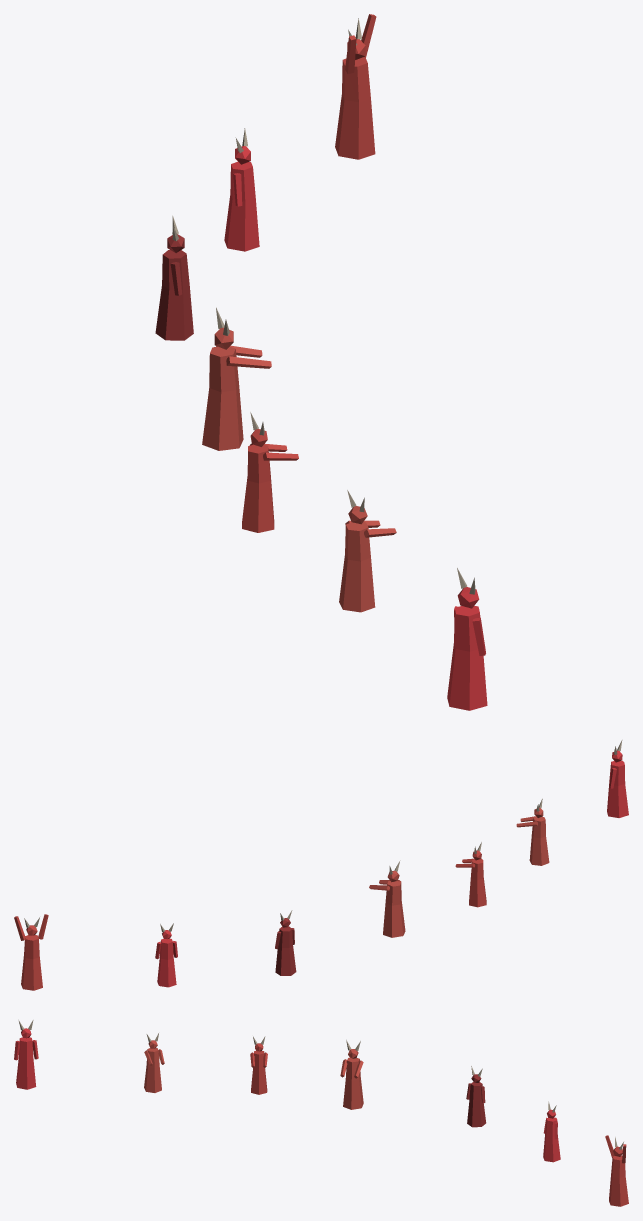
Rendered from Stands_3_0_0_Ice.obj.
The picture shows the model from 3 angles, top to bottom: view 1: azimuth 30°, elevation 25°; view 2: azimuth 150°, elevation 25°; view 3: azimuth 270°, elevation 25°; orthographic projection. The views are drawn at different scales.
Parts seen in each view (by area): view 1: Stands_3_0_0_Ice; view 2: Stands_3_0_0_Ice; view 3: Stands_3_0_0_Ice.
Boxes of the visible parts, x1=… form: Stands_3_0_0_Ice: x1=155, y1=14, x2=487, y2=710; Stands_3_0_0_Ice: x1=14, y1=740, x2=628, y2=990; Stands_3_0_0_Ice: x1=14, y1=1020, x2=628, y2=1206.
Size of the model in its own units: 14.97 by 3.56 by 30.34.
1 material, 1 textured.
